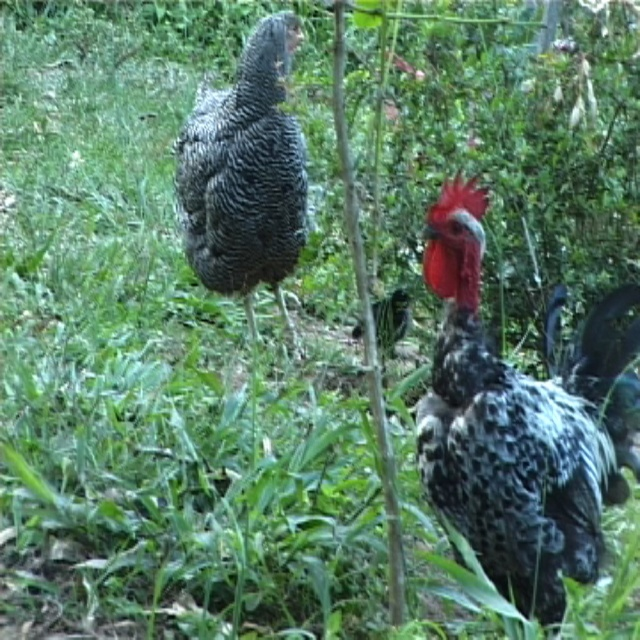Chicken: (416, 165, 640, 640), (169, 5, 312, 345)
